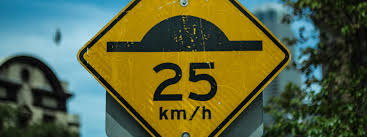sp25: (143, 58, 224, 127)
